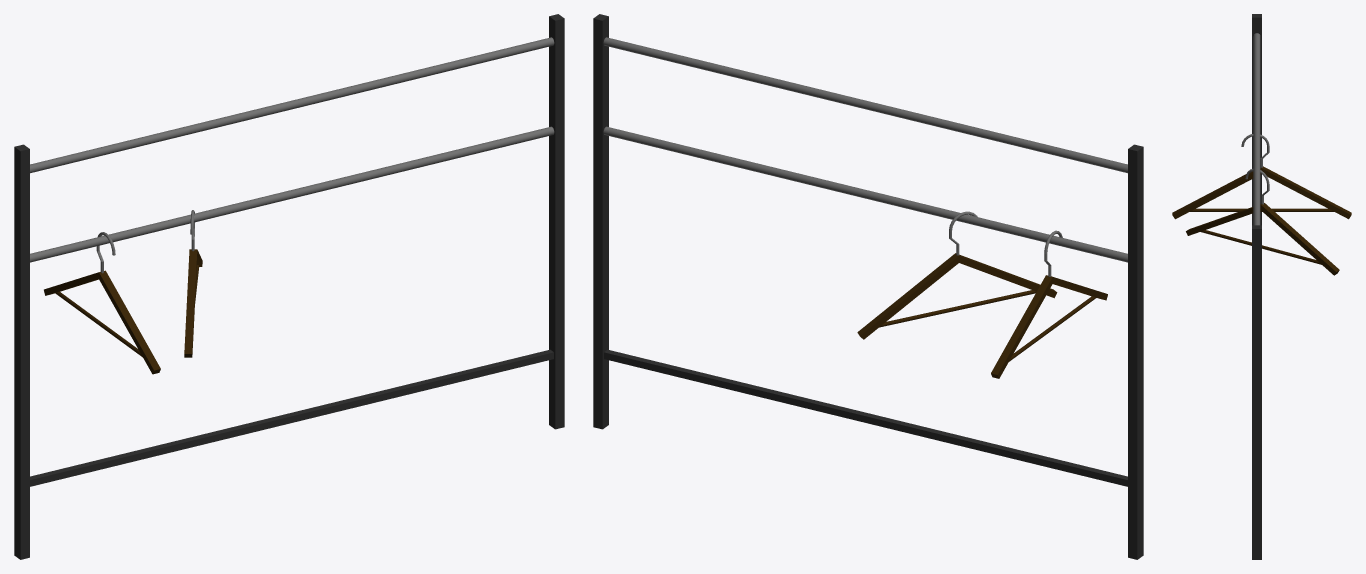
Rendered from ClothestStand.fbx.
3 renders of one model, left to right at view 1: azimuth 30°, elevation 25°; view 2: azimuth 150°, elevation 25°; view 3: azimuth 270°, elevation 25°, orthographic. The views are drawn at different scales.
Parts seen in each view (by area): view 1: pasted__pCylinder1; view 2: pasted__pCylinder1; view 3: pasted__pCylinder1.
Part boxes in pixels (x1,y1,x2,y2): pasted__pCylinder1: (14, 14, 564, 559); pasted__pCylinder1: (593, 14, 1143, 559); pasted__pCylinder1: (1172, 14, 1351, 559).
Size of the model in its own units: 210 by 151 by 74.
